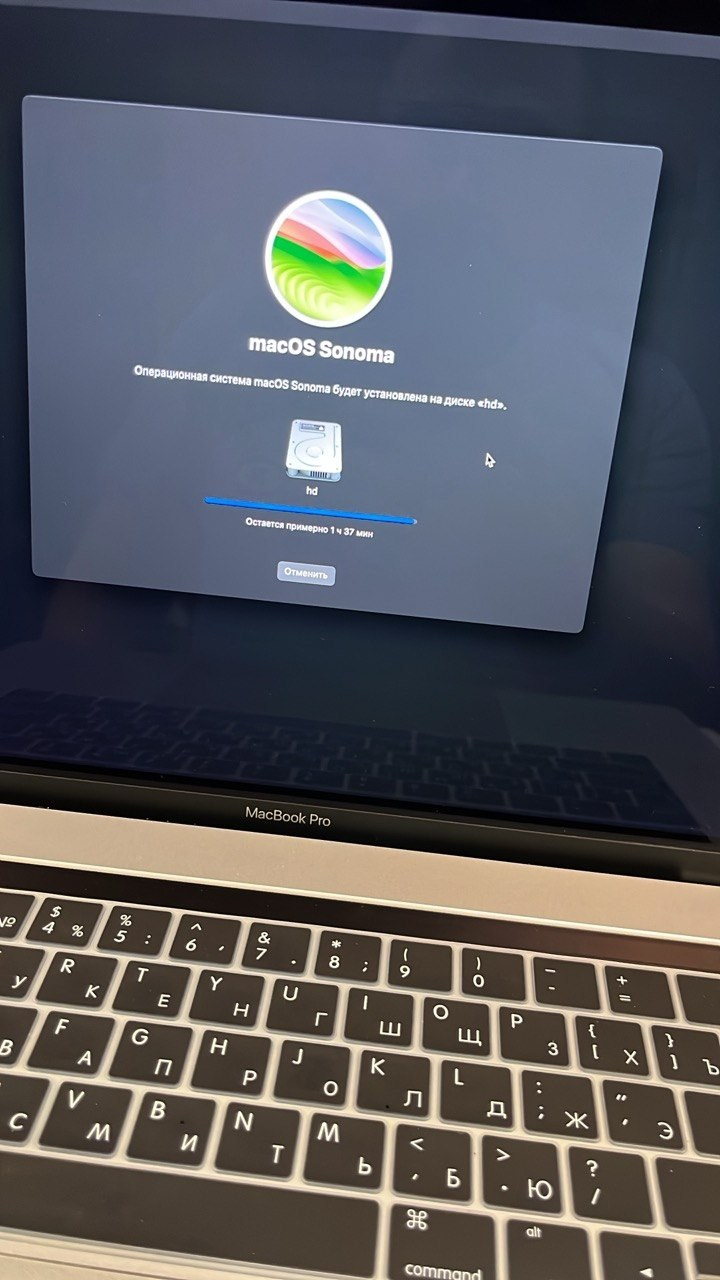laptop: (1, 4, 719, 1275)
